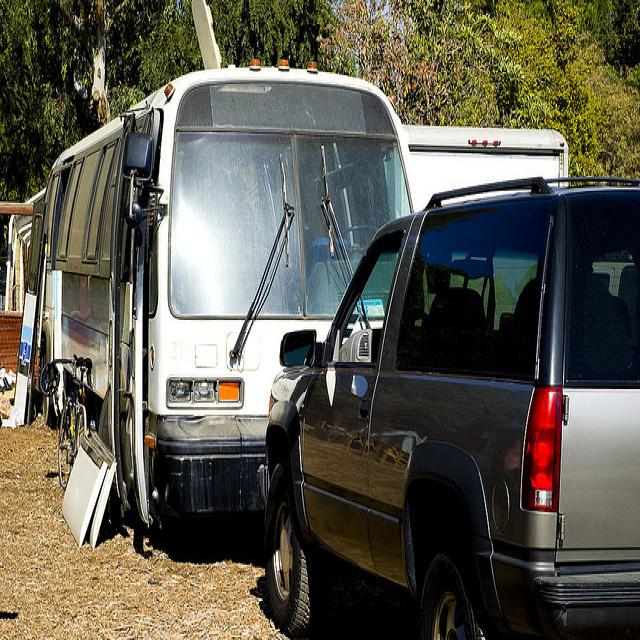Vehicle: (29, 57, 409, 557), (259, 174, 640, 629), (402, 124, 570, 198)
